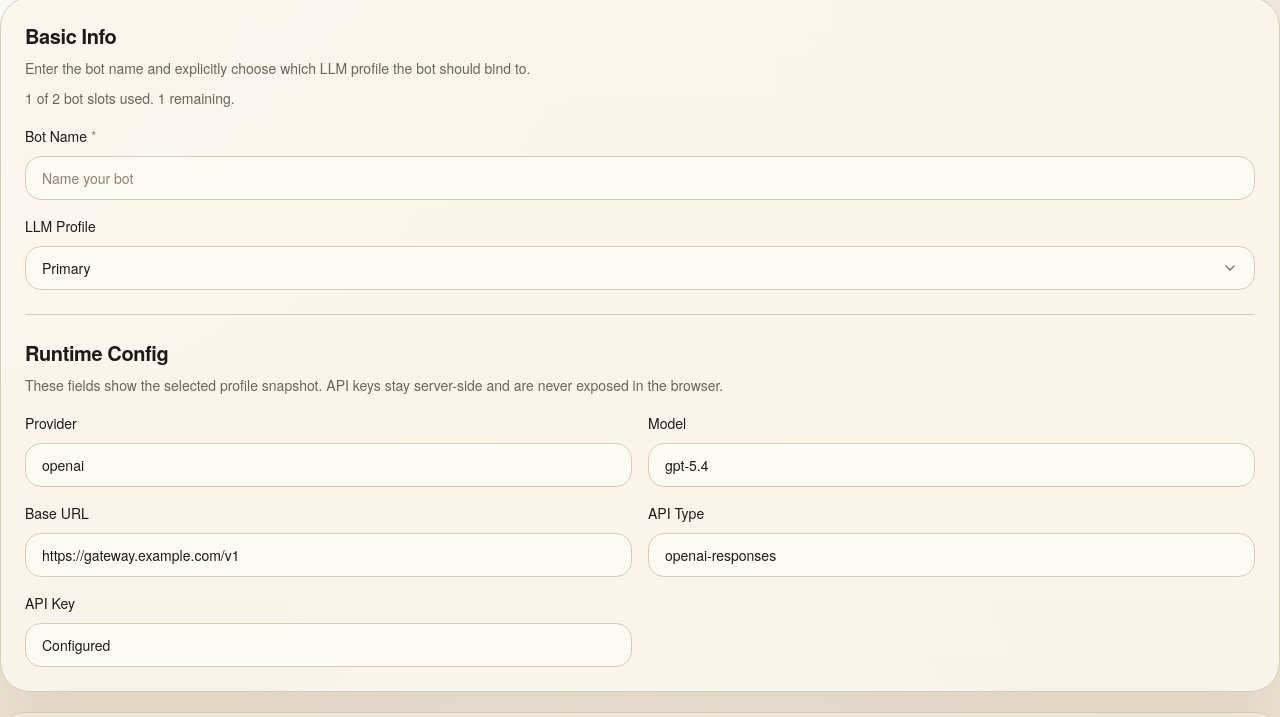
Test: disables submit while the request is pending
This screenshot has width=1280, height=717.
Type "Alpha" into the field labelled "Bot Name" at (640,178), box x1=25 y1=156 x2=1255 y2=200
(page scrolled)
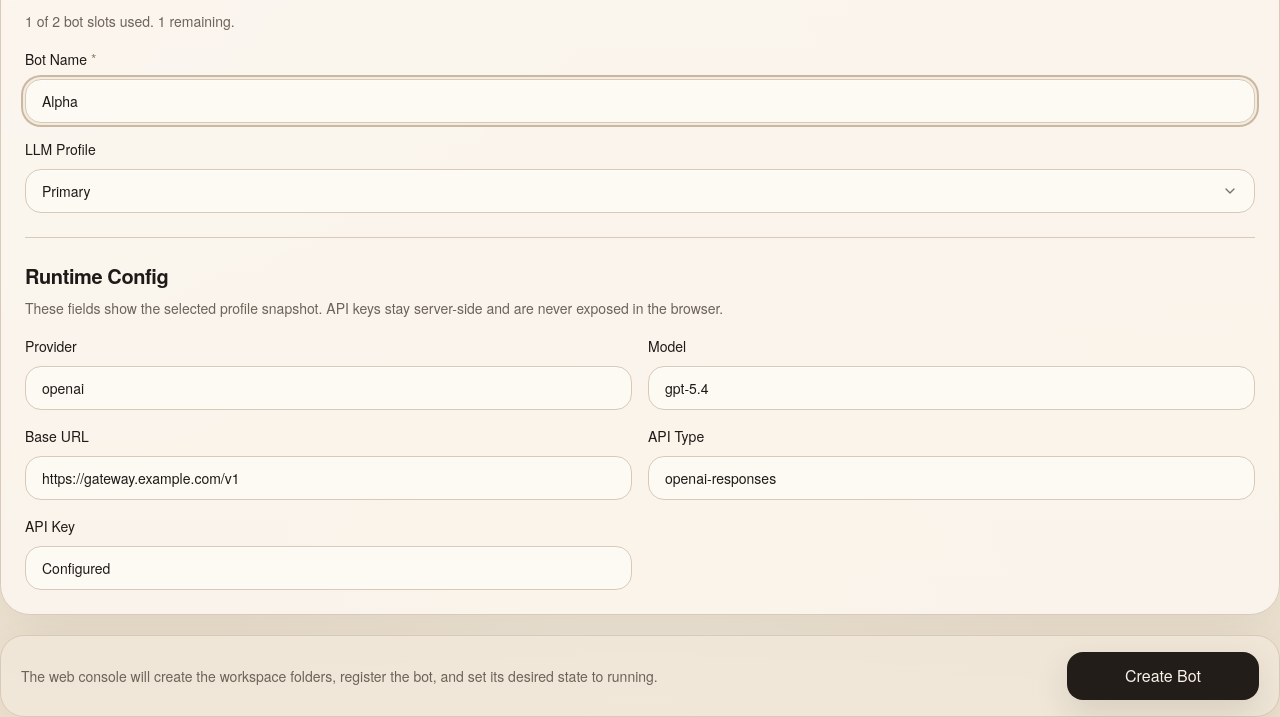
Click the button "Create Bot" at (1163,676), box x1=1067 y1=652 x2=1259 y2=700
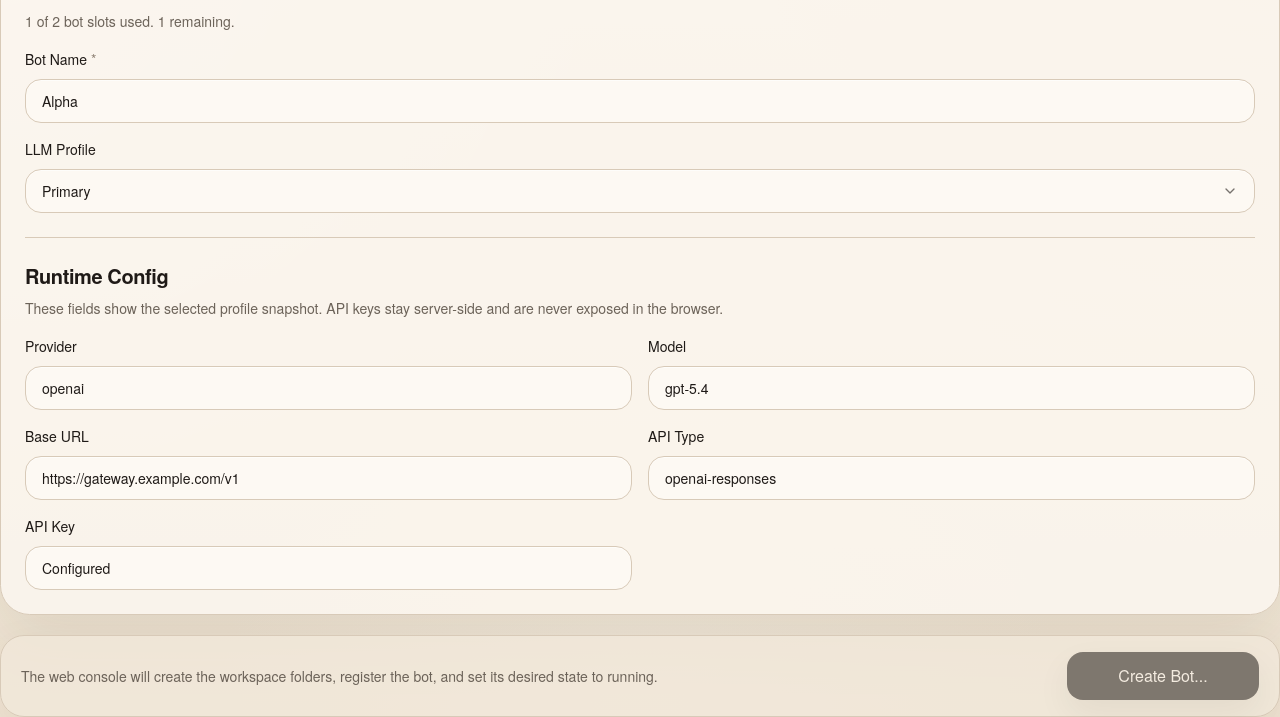
Expected: the button "Create Bot..." is disabled, x1=1067 y1=652 x2=1259 y2=700
